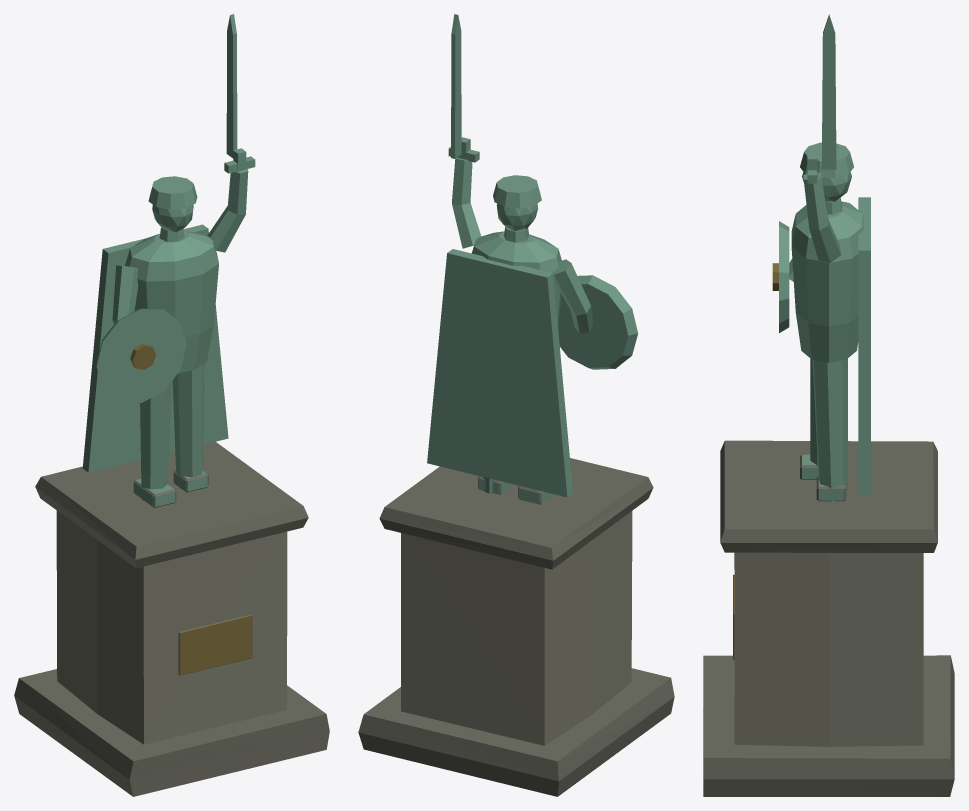
File: statue.glb
3 views of the same model, side by side, from view 1: azimuth 30°, elevation 25°; view 2: azimuth 150°, elevation 25°; view 3: azimuth 270°, elevation 25° (orthographic). The views are drawn at different scales.
Parts seen in each view (by area): view 1: Statue; view 2: Statue; view 3: Statue.
Boxes of the visible parts, box(x1,y1,x2,y2) form: Statue: box(14, 14, 329, 796); Statue: box(358, 14, 674, 796); Statue: box(703, 14, 954, 796).
Bounding box in the file's own units: 1.2 × 4.02 × 1.2.
